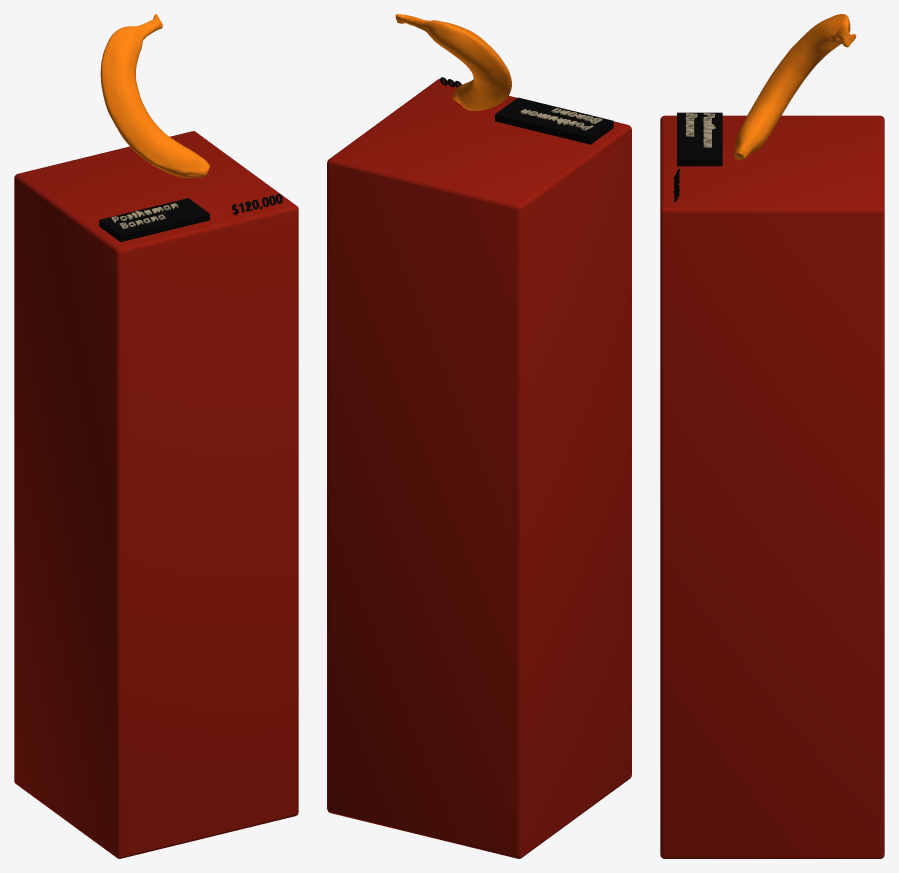
Rendered from Art1.fbx.
3 renders of one model, left to right at view 1: azimuth 30°, elevation 25°; view 2: azimuth 150°, elevation 25°; view 3: azimuth 270°, elevation 25°, orthographic. The views are drawn at different scales.
Parts seen in each view (by area): view 1: Plinth1, banana, banana_name; view 2: Plinth1, banana, banana_name; view 3: Plinth1, banana, banana_name.
Part boxes in pixels (x1,y1,x2,y2): Plinth1: (14, 131, 298, 858); banana: (100, 14, 209, 178); banana_name: (99, 198, 209, 241); Plinth1: (327, 79, 631, 858); banana: (395, 14, 511, 110); banana_name: (495, 97, 613, 144); Plinth1: (660, 115, 884, 858); banana: (734, 14, 856, 160); banana_name: (677, 112, 722, 166).
Bounding box in the file's own units: 25 × 98.1 × 25.
Materials: 5 (1 with a texture image).
